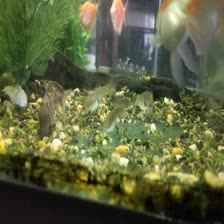Cuezo: (151, 0, 223, 85)
Guppy: (78, 75, 120, 113), (98, 100, 125, 136)
Kiros: (32, 76, 70, 144)
Plano: (73, 0, 104, 31), (105, 0, 124, 37)
